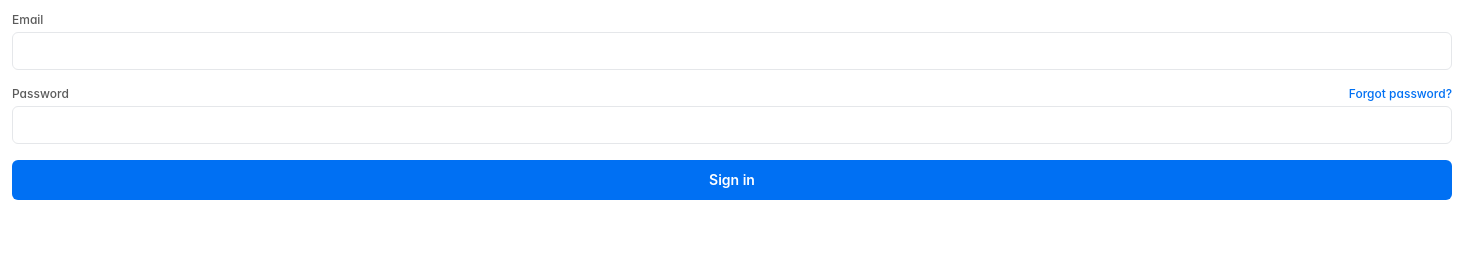
Test: SignInForm › shows a validation message in an aria-live region on invalid credentials, without navigating
This screenshot has width=1464, height=253.
In the field labelled "Email": (732, 51) [12, 32, 1452, 70], type "alice@example.com"
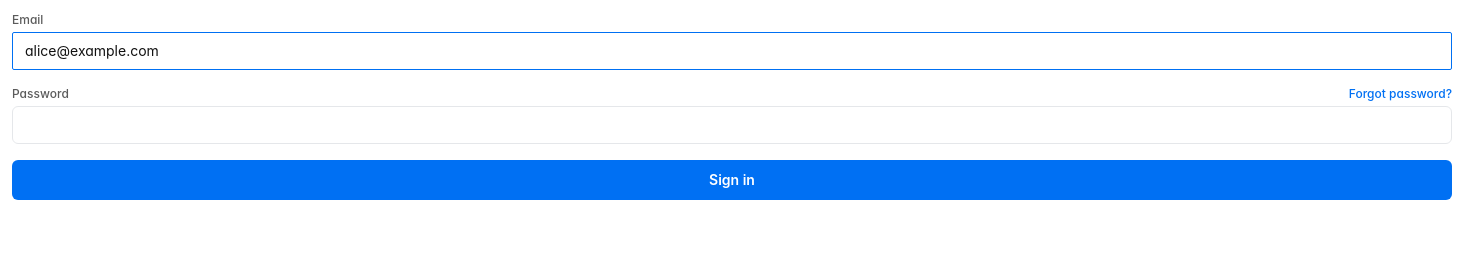
In the password field labelled "Password": (732, 125) [12, 106, 1452, 144], type "wrong-password"
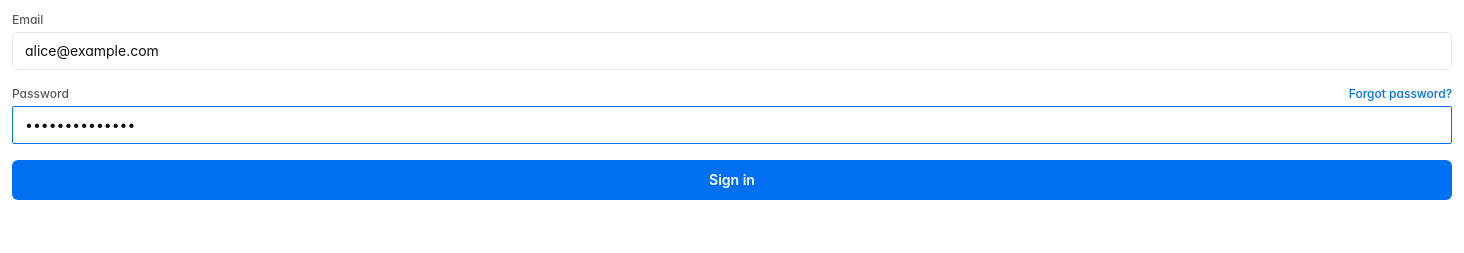
Click the button "Sign in": (732, 180) [12, 160, 1452, 200]
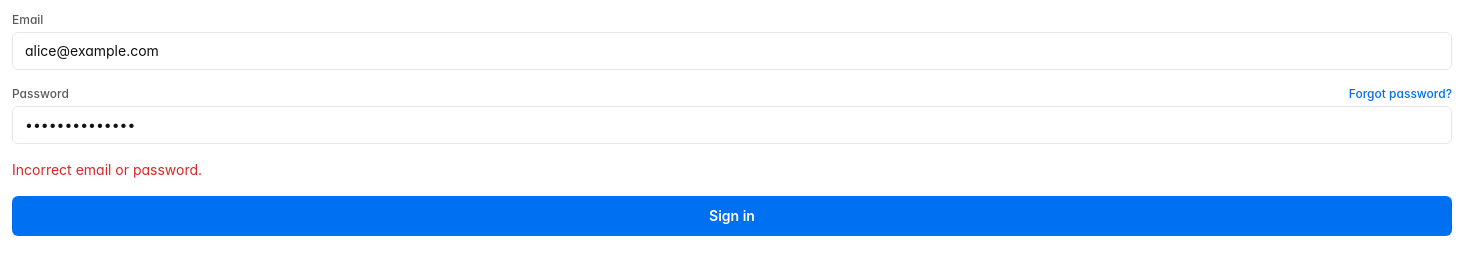
Expected: the button "Sign in" is enabled, [12, 196, 1452, 236]
Expected: the message shows "Incorrect email or password", [12, 161, 202, 178]
